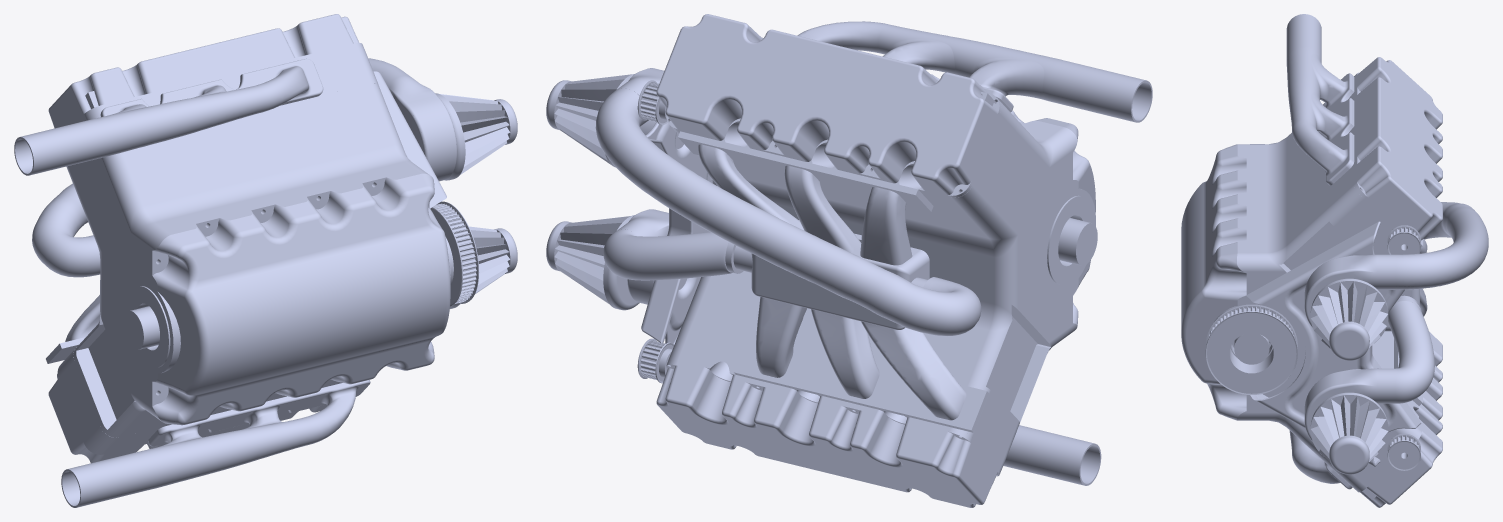
Rendered from V6_Engine_Prototype.glb.
3 renders of one model, left to right at view 1: azimuth 30°, elevation 25°; view 2: azimuth 150°, elevation 25°; view 3: azimuth 270°, elevation 25°, orthographic. The views are drawn at different scales.
Visible parts, largest first — view 1: Oil pan, Engine block, Exhaust manifold 2, Exhaust manifold 1, Valve cover 001, Horse 1^Engine assembly, Air turbo (Supercharger), Engine cylinder head001, Engine air filter, Engine belt wheels 2, Engine cylinder head, Valve cover 2 (+6 smaller); view 2: Valve cover 001, Engine block, Valve cover 2, Horse 1^Engine assembly, Intake manifold mirored004, Exhaust manifold 1, Intake manifold mirored001, Horse 2^Engine assembly, Engine cylinder head, Engine side cover, Engine cylinder head001, Exhaust manifold 2 (+13 smaller); view 3: Oil pan, Valve cover 001, Engine block, Exhaust manifold 1, Engine side cover, Engine belt wheels 2, Horse 1^Engine assembly, Valve cover 2, Horse 2^Engine assembly, Engine air filter004, Engine air filter, Air turbo (Supercharger)003 (+12 smaller).
Boxes of the visible parts, x1,y1,x2,y2 form: Oil pan: (149,167,450,425); Engine block: (73,83,420,437); Exhaust manifold 2: (61,380,370,507); Exhaust manifold 1: (14,58,323,175); Valve cover 001: (48,14,363,128); Horse 1^Engine assembly: (32,58,400,277); Air turbo (Supercharger): (381,68,457,181); Engine cylinder head001: (66,47,377,183); Engine air filter: (440,94,510,174); Engine belt wheels 2: (430,201,479,306); Engine cylinder head: (59,347,163,452); Valve cover 2: (48,365,326,463); Valve cover 001: (656,14,1001,197); Engine block: (684,118,1069,429); Valve cover 2: (656,360,1001,507); Horse 1^Engine assembly: (595,88,981,335); Intake manifold mirored004: (698,144,966,420); Exhaust manifold 1: (797,21,1152,122); Intake manifold mirored001: (733,333,988,432); Horse 2^Engine assembly: (603,229,732,280); Engine cylinder head: (668,320,1016,469); Engine side cover: (641,122,710,344); Engine cylinder head001: (669,97,1016,214); Exhaust manifold 2: (1003,425,1101,485); Oil pan: (1181,144,1251,420); Valve cover 001: (1354,57,1442,241); Engine block: (1251,103,1393,466); Exhaust manifold 1: (1286,14,1354,185); Engine side cover: (1246,221,1421,466); Engine belt wheels 2: (1205,304,1297,394); Horse 1^Engine assembly: (1395,202,1488,289); Valve cover 2: (1355,331,1442,507); Horse 2^Engine assembly: (1388,301,1434,403); Engine air filter004: (1311,395,1388,462); Engine air filter: (1311,281,1387,348); Air turbo (Supercharger)003: (1304,368,1395,441).
Size of the model in its own units: 0.9345 by 0.6873 by 0.5532.
